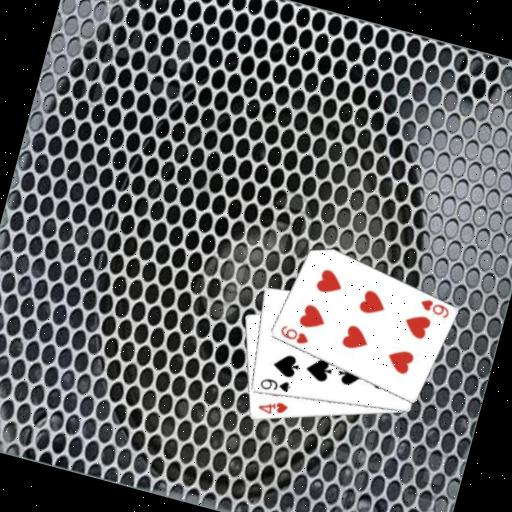4H: (253, 393, 290, 420)
6H: (414, 294, 452, 321), (275, 321, 312, 348)
9S: (255, 371, 293, 397)
